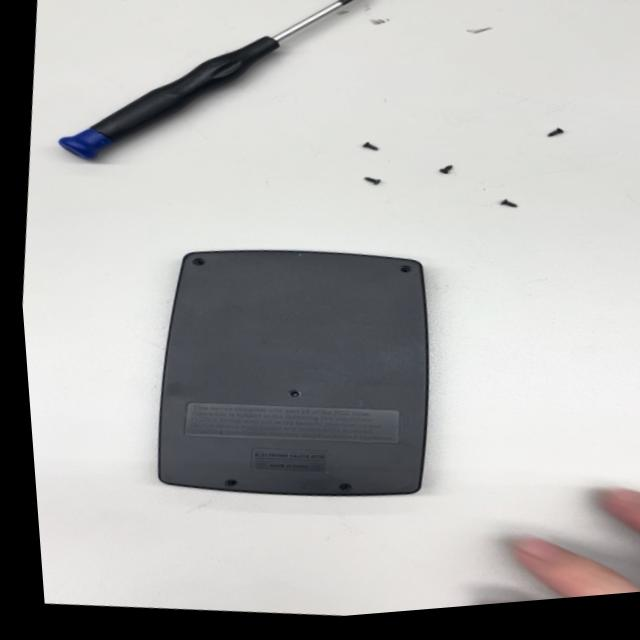back_cover: (127, 218, 464, 530)
screw: (543, 122, 573, 144), (356, 132, 381, 156), (494, 193, 520, 213), (435, 158, 458, 178), (359, 172, 386, 189)
screw_driver: (45, 0, 389, 199)
